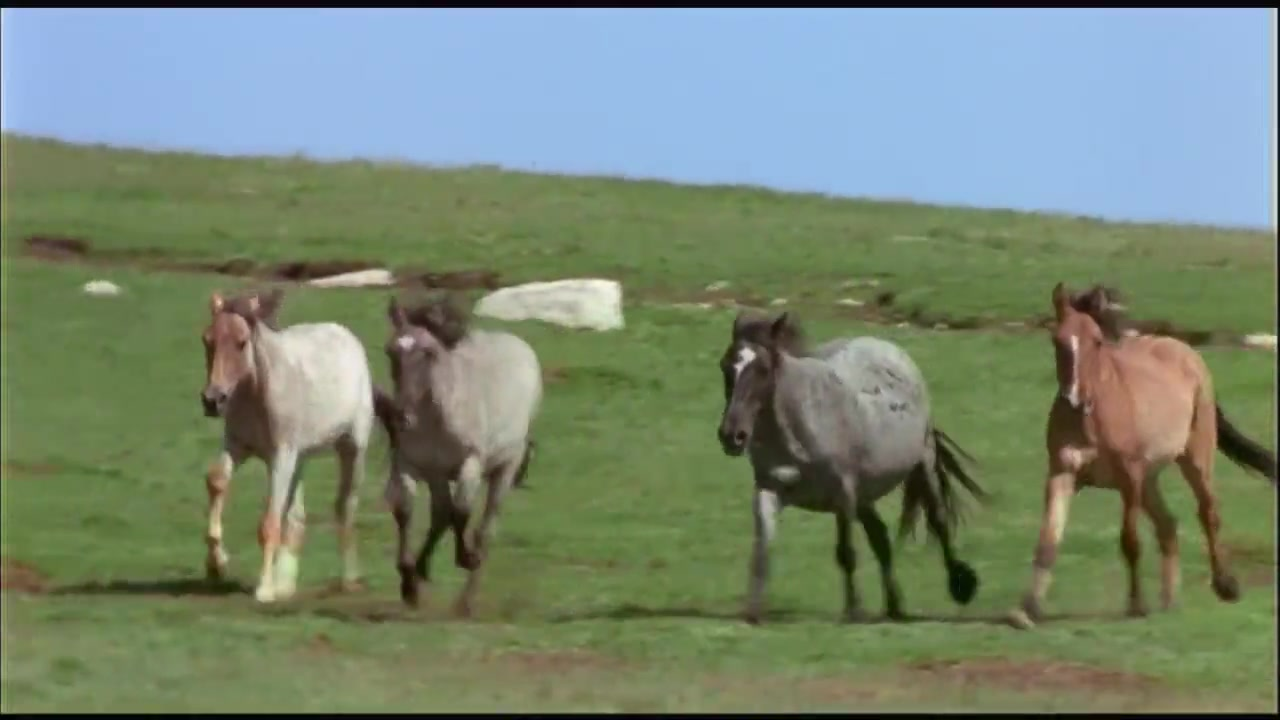horse: (720, 312, 991, 630)
